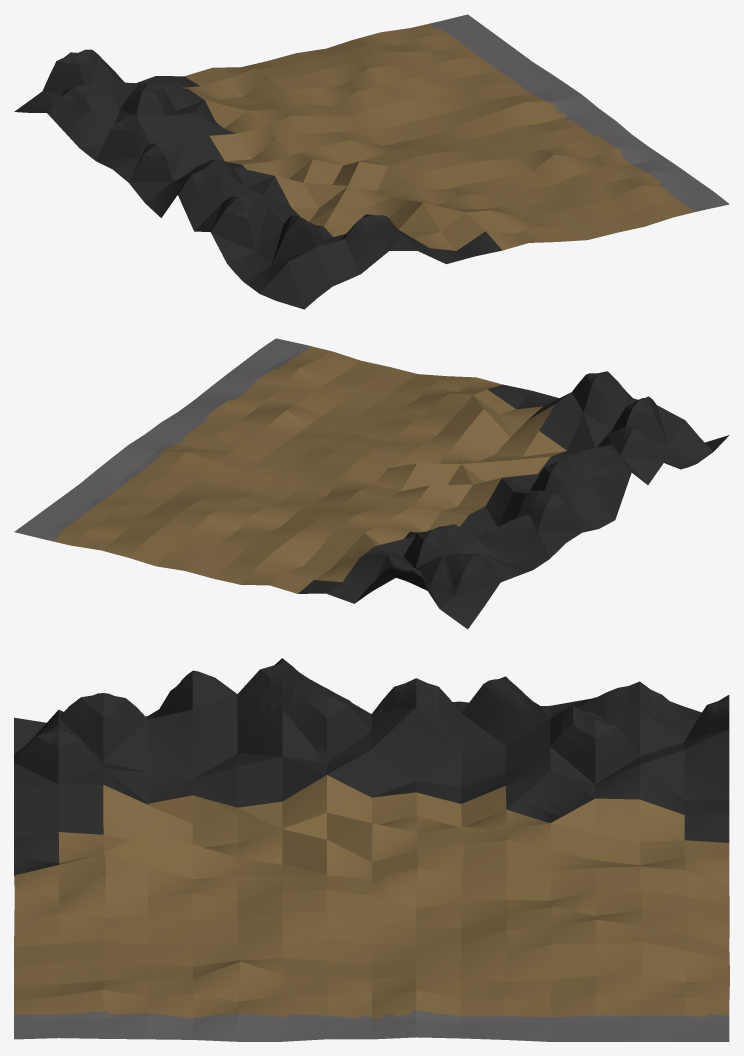
File: Land.fbx
3 views of the same model, one above another, from view 1: azimuth 30°, elevation 25°; view 2: azimuth 150°, elevation 25°; view 3: azimuth 270°, elevation 25° (orthographic). The views are drawn at different scales.
Visible parts, largest first — view 1: 평면; view 2: 평면; view 3: 평면.
Part boxes in pixels (left/top/right/bottom): 평면: left=14, top=14, right=729, bottom=309; 평면: left=14, top=338, right=729, bottom=629; 평면: left=14, top=658, right=729, bottom=1041.
Bounding box in the file's own units: 20000 × 2912 × 20019.
